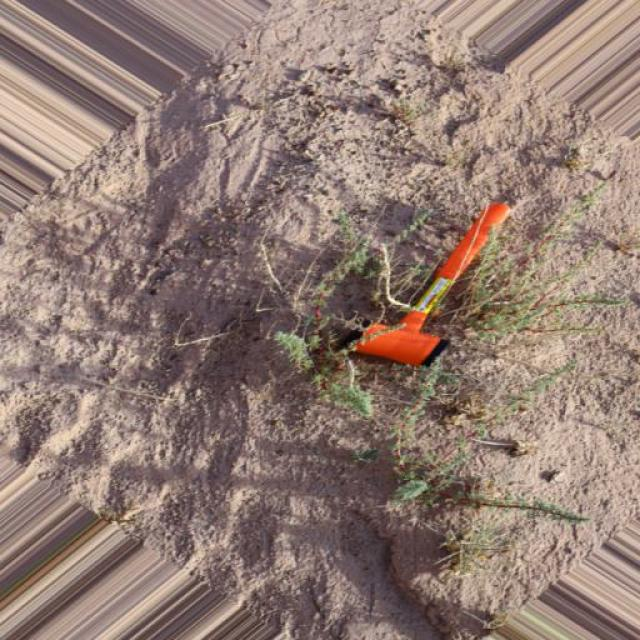mallet: (352, 200, 514, 368)
